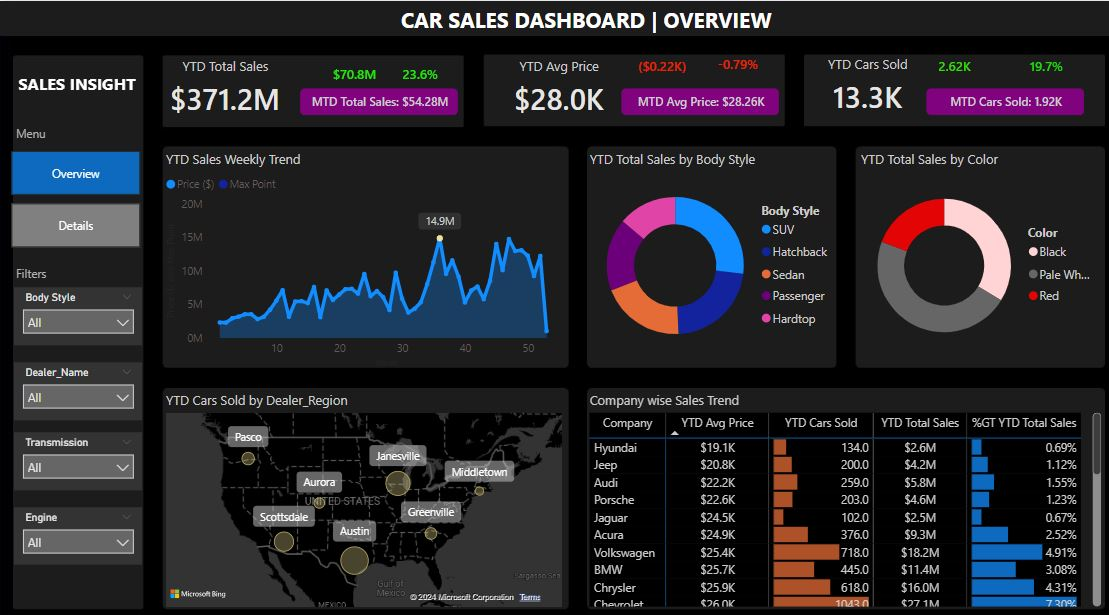

This screenshot's page, from the dashboard's own definition file:
{"tool":"powerbi","page":{"name":"Overview","canvas":[1280,720],"ordinal":0},"visuals":[{"type":"card","title":"YTD Total Sales","fields":{"Values":["car_data.YTD Total Sales"]},"box":[185.7,64.3,145.7,75.7],"z":0},{"type":"card","fields":{"Values":["car_data.Sales Difference"]},"box":[344.3,67.1,124.3,38.6],"z":1000},{"type":"card","fields":{"Values":["car_data.YoY Sales Growth"]},"box":[438.6,64.3,85.7,44.3],"z":2000},{"type":"card","fields":{"Values":["car_data.MTD KPI"]},"box":[344.3,100,180,30],"z":3000},{"type":"card","title":"YTD Avg Price","fields":{"Values":["car_data.YTD Avg Price"]},"box":[567.1,64.3,145.7,75.7],"z":4000},{"type":"card","fields":{"Values":["car_data.Avg Price Diff"]},"box":[695.7,61.4,124.3,25.7],"z":5000},{"type":"card","fields":{"Values":["car_data.YoY Avg Price Growth"]},"box":[801.4,58.6,85.7,32.9],"z":6000},{"type":"card","fields":{"Values":["car_data.MTD AVG KPI"]},"box":[711.4,100,180,30],"z":7000},{"type":"card","title":"YTD Cars Sold","fields":{"Values":["car_data.YTD Cars Sold"]},"box":[920,61.4,145.7,75.7],"z":8000},{"type":"card","fields":{"Values":["car_data.Cars Sold Diff"]},"box":[1030,61.4,124.3,25.7],"z":9000},{"type":"card","fields":{"Values":["car_data.YoY Cars Sold Growth"]},"box":[1154.3,60,85.7,32.9],"z":10000},{"type":"card","fields":{"Values":["car_data.MTD Cars Sold KPI"]},"box":[1060,100,180,30],"z":11000},{"type":"areaChart","title":"YTD Sales Weekly Trend","fields":{"Category":["Calendar Table.Week"],"Y":["Sum(car_data.Price ($))","car_data.Max Point"]},"box":[186.2,170,462.5,255],"z":12000},{"type":"donutChart","fields":{"Category":["car_data.Body Style"],"Y":["car_data.YTD Total Sales"]},"box":[670,170,290,245],"z":13000},{"type":"donutChart","fields":{"Y":["car_data.YTD Total Sales"],"Series":["car_data.Color"]},"box":[980,170,283.8,245],"z":14000},{"type":"map","fields":{"Size":["car_data.YTD Cars Sold"],"Category":["car_data.Dealer_Region"]},"box":[185.7,445.7,462.9,251.4],"z":15000},{"type":"pivotTable","title":"Company wise Sales Trend","fields":{"Rows":["car_data.Company"],"Values":["car_data.YTD Avg Price","car_data.YTD Cars Sold","car_data.YTD Total Sales1","car_data.YTD Total Sales"]},"box":[670,445.7,594.3,251.4],"z":16000},{"type":"textbox","box":[454.3,0,481.4,50],"z":17000},{"type":"slicer","fields":{"Values":["car_data.Body Style"]},"box":[17.8,326.7,146.7,66.7],"z":18000},{"type":"slicer","fields":{"Values":["car_data.Dealer_Name"]},"box":[17.8,412.2,146.7,66.7],"z":19000},{"type":"slicer","fields":{"Values":["car_data.Transmission"]},"box":[17.8,493.3,146.7,66.7],"z":20000},{"type":"slicer","fields":{"Values":["car_data.Engine"]},"box":[17.8,578.9,146.7,65.6],"z":21000},{"type":"textbox","box":[14.4,297.8,150,33.3],"z":22000},{"type":"pageNavigator","box":[14.3,171.4,147.1,110],"z":23000},{"type":"textbox","box":[14.3,137.1,150,34.3],"z":24000},{"type":"textbox","box":[17.1,77.1,168.6,50],"z":25000}]}

Visuals, with their boxes in screenshot pixels (x1, y1, x2, y2), scaled from the page's 1280x720 canvas onto the 1109x615 screenshot:
"YTD Total Sales" card: (x1=161, y1=55, x2=287, y2=120)
card - car_data.Sales Difference: (x1=298, y1=57, x2=406, y2=90)
card - car_data.YoY Sales Growth: (x1=380, y1=55, x2=454, y2=93)
card - car_data.MTD KPI: (x1=298, y1=85, x2=454, y2=111)
"YTD Avg Price" card: (x1=491, y1=55, x2=618, y2=120)
card - car_data.Avg Price Diff: (x1=603, y1=52, x2=710, y2=74)
card - car_data.YoY Avg Price Growth: (x1=694, y1=50, x2=769, y2=78)
card - car_data.MTD AVG KPI: (x1=616, y1=85, x2=772, y2=111)
"YTD Cars Sold" card: (x1=797, y1=52, x2=923, y2=117)
card - car_data.Cars Sold Diff: (x1=892, y1=52, x2=1000, y2=74)
card - car_data.YoY Cars Sold Growth: (x1=1000, y1=51, x2=1074, y2=79)
card - car_data.MTD Cars Sold KPI: (x1=918, y1=85, x2=1074, y2=111)
"YTD Sales Weekly Trend" areaChart: (x1=161, y1=145, x2=562, y2=363)
donutChart - car_data.Body Style x car_data.YTD Total Sales: (x1=580, y1=145, x2=832, y2=354)
donutChart - car_data.YTD Total Sales x car_data.Color: (x1=849, y1=145, x2=1095, y2=354)
map - car_data.YTD Cars Sold x car_data.Dealer_Region: (x1=161, y1=381, x2=562, y2=595)
"Company wise Sales Trend" pivotTable: (x1=580, y1=381, x2=1095, y2=595)
textbox: (x1=394, y1=0, x2=811, y2=43)
slicer - car_data.Body Style: (x1=15, y1=279, x2=143, y2=336)
slicer - car_data.Dealer_Name: (x1=15, y1=352, x2=143, y2=409)
slicer - car_data.Transmission: (x1=15, y1=421, x2=143, y2=478)
slicer - car_data.Engine: (x1=15, y1=494, x2=143, y2=551)
textbox: (x1=12, y1=254, x2=142, y2=283)
pageNavigator: (x1=12, y1=146, x2=140, y2=240)
textbox: (x1=12, y1=117, x2=142, y2=146)
textbox: (x1=15, y1=66, x2=161, y2=109)
